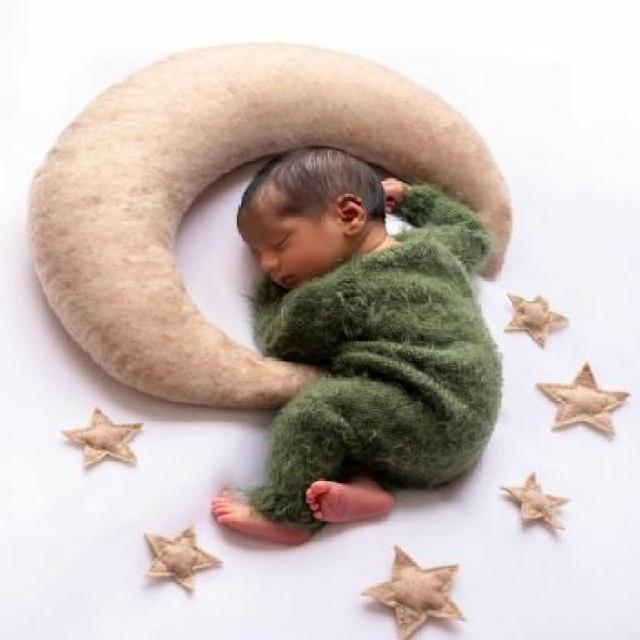baby: (209, 145, 502, 548)
